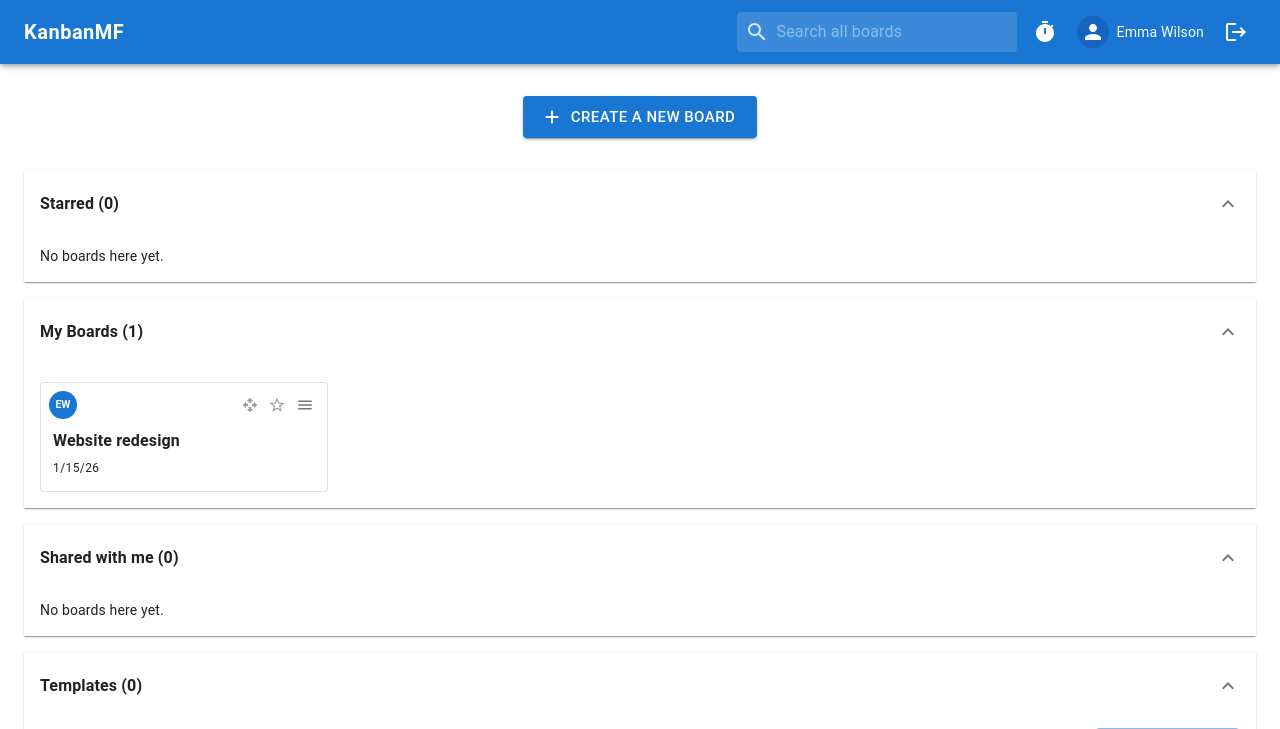
Boards › creating › creates a board, starred if asked, and shows it in its sections
Click the button "Create a new Board": (640, 117) left=523, top=96, right=757, bottom=138
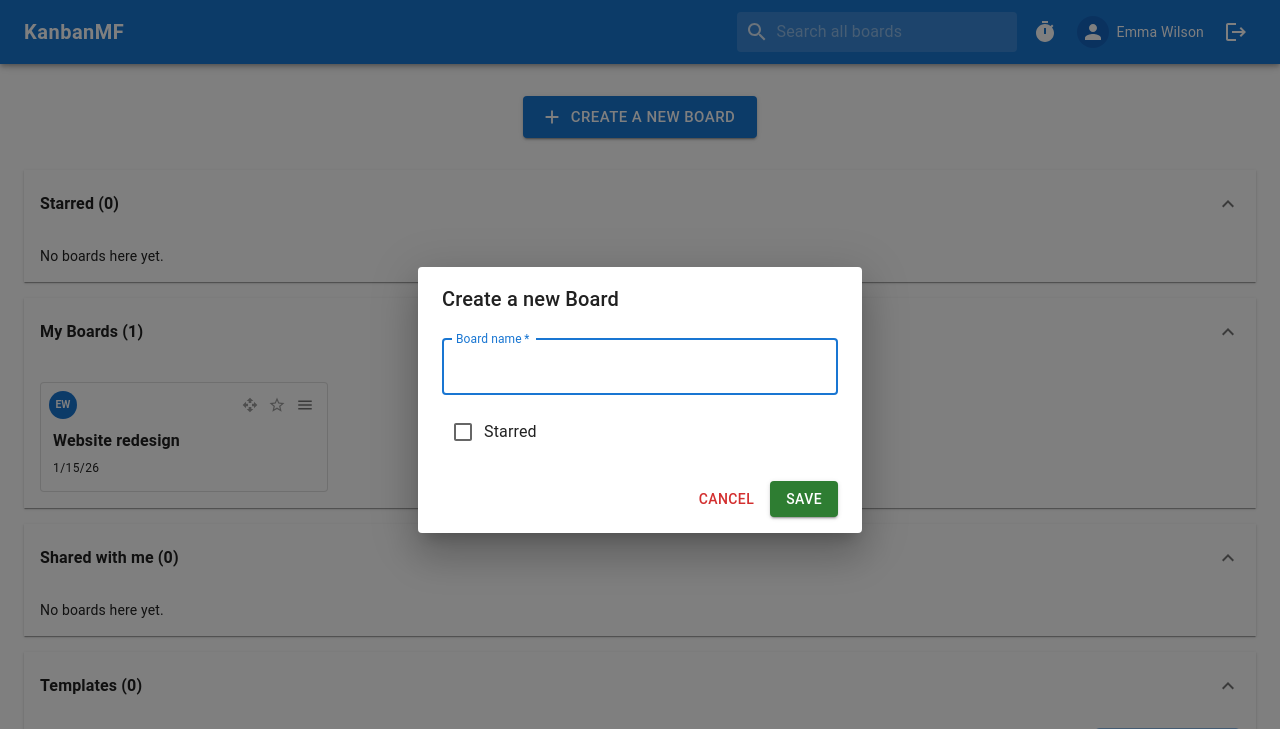
In the field labelled "Board name *": (640, 367) left=442, top=339, right=838, bottom=395, type "  Launch plan "
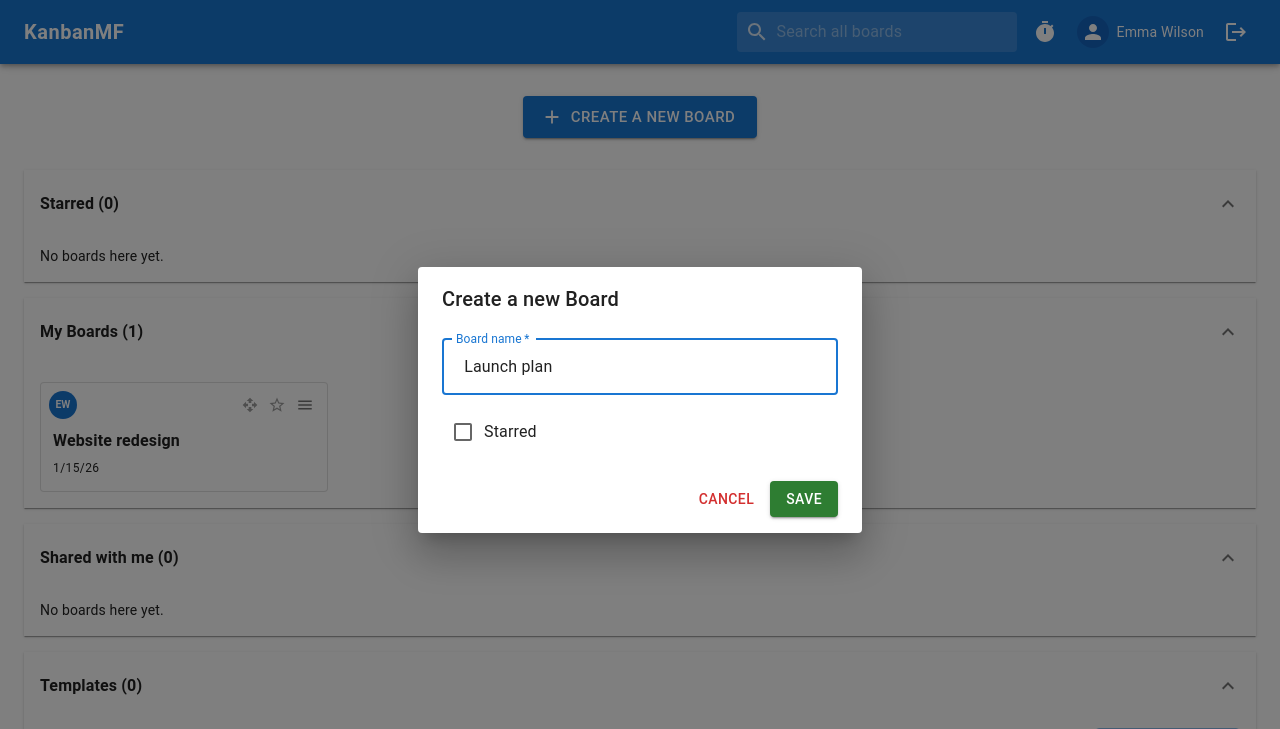
Click the checkbox labelled "Starred": (494, 432) left=451, top=420, right=537, bottom=444
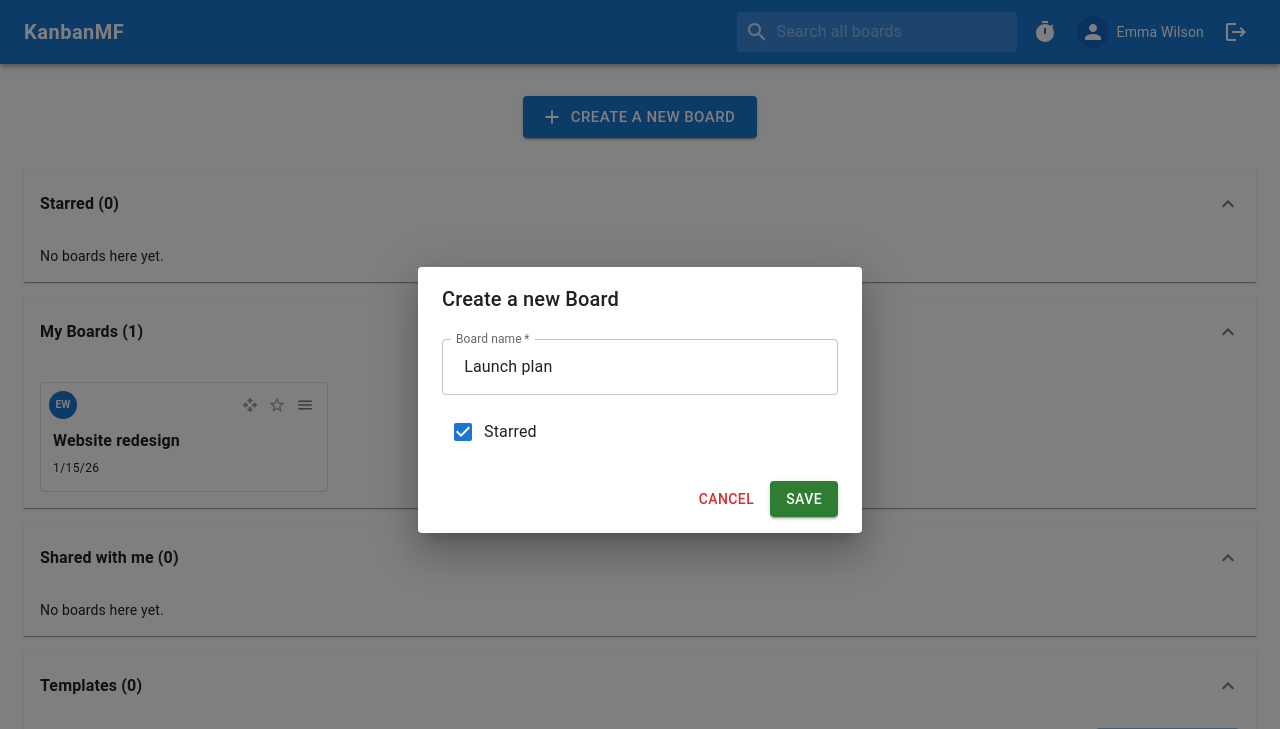
Click the button "Save": (804, 499) left=770, top=481, right=838, bottom=517
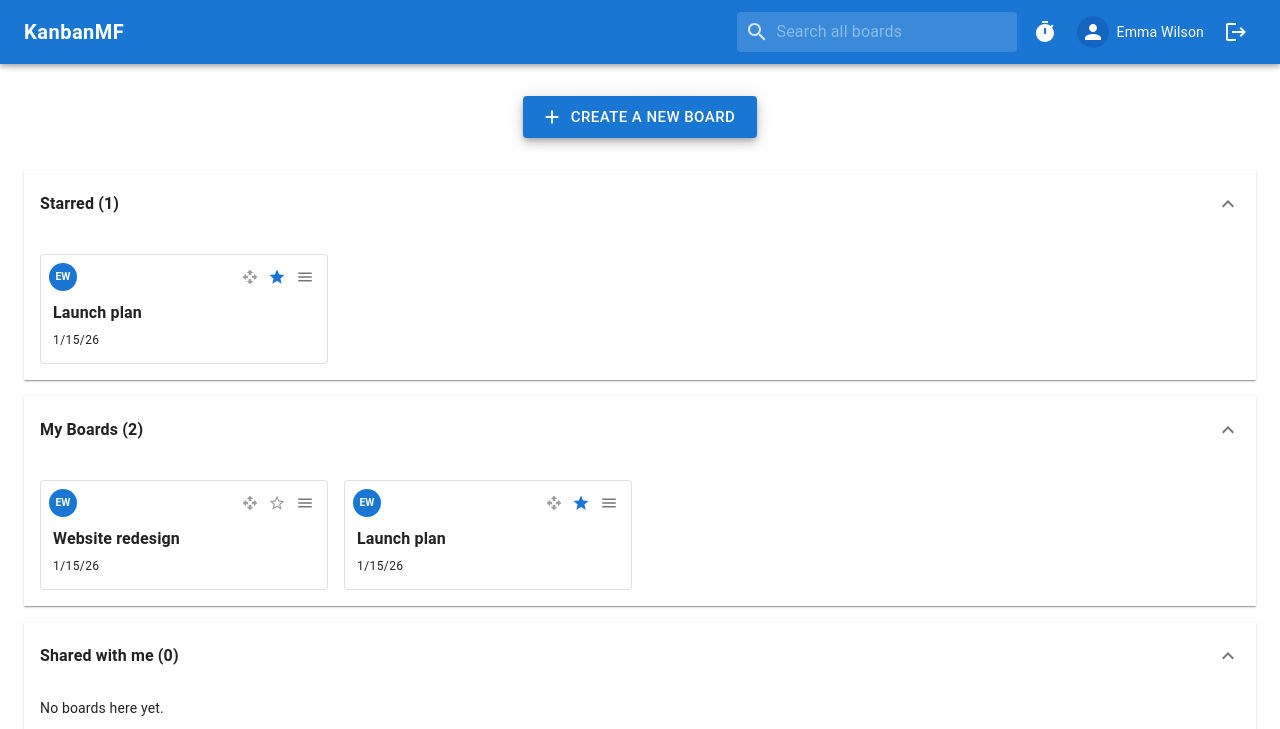
Expected: the number of headings "Launch plan" is 2, left=53, top=303, right=142, bottom=322; left=357, top=529, right=446, bottom=548
